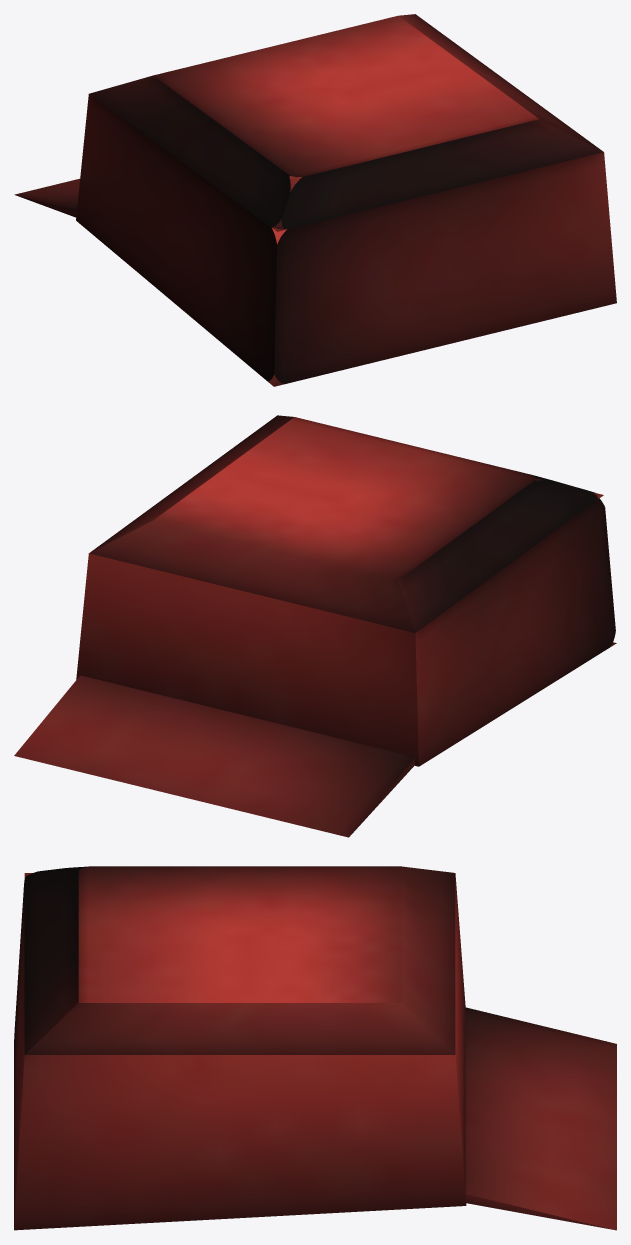
The model's file is capred.obj.
3 renders of one model, top to bottom at view 1: azimuth 30°, elevation 25°; view 2: azimuth 150°, elevation 25°; view 3: azimuth 270°, elevation 25°, orthographic. The views are drawn at different scales.
Parts seen in each view (by area): view 1: headModel1, headModel2, headModel0; view 2: headModel1, headModel2, headModel0; view 3: headModel2, headModel1, headModel0.
Part boxes in pixels (bbox=[...]): headModel1: bbox=[76, 94, 616, 386]; headModel2: bbox=[89, 14, 603, 231]; headModel0: bbox=[14, 178, 79, 217]; headModel1: bbox=[76, 478, 616, 766]; headModel2: bbox=[89, 415, 603, 632]; headModel0: bbox=[14, 675, 415, 837]; headModel2: bbox=[24, 866, 455, 1054]; headModel1: bbox=[14, 873, 466, 1230]; headModel0: bbox=[465, 1007, 616, 1230].
Bounding box in the file's own units: 8.4 × 4.15 × 11.2.
